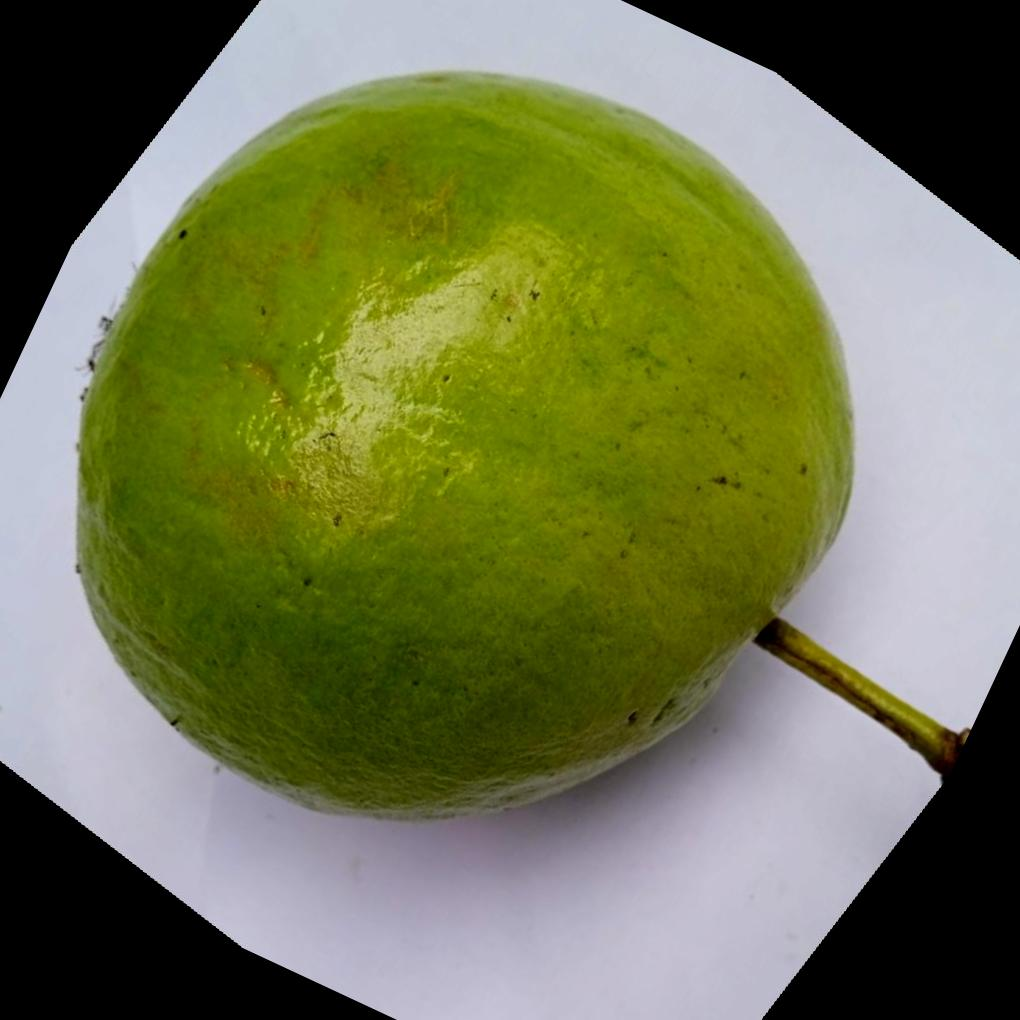FreshGuava: (75, 69, 860, 824)
